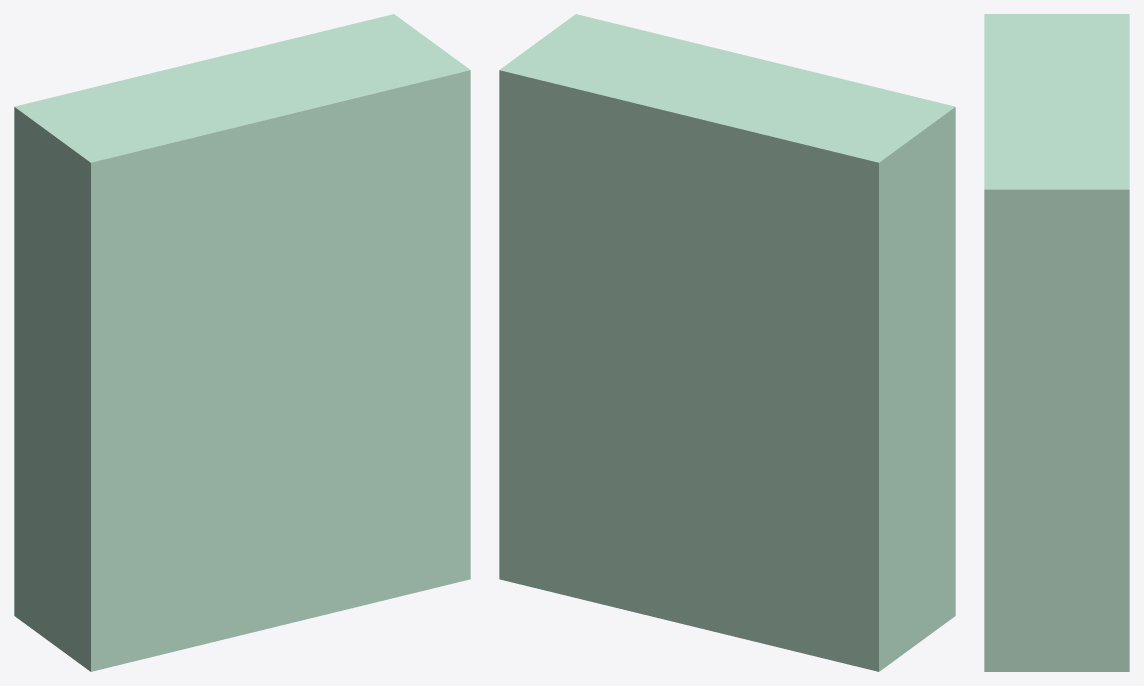
The model's file is Produce_Cerial.glb.
3 renders of one model, left to right at view 1: azimuth 30°, elevation 25°; view 2: azimuth 150°, elevation 25°; view 3: azimuth 270°, elevation 25°, orthographic. The views are drawn at different scales.
Parts seen in each view (by area): view 1: Cerial; view 2: Cerial; view 3: Cerial.
Boxes of the visible parts, x1,y1,x2,y2 form: Cerial: [14, 14, 470, 671]; Cerial: [499, 14, 955, 671]; Cerial: [984, 14, 1129, 671].
Bounding box in the file's own units: 0.2666 × 0.3415 × 0.0932.
